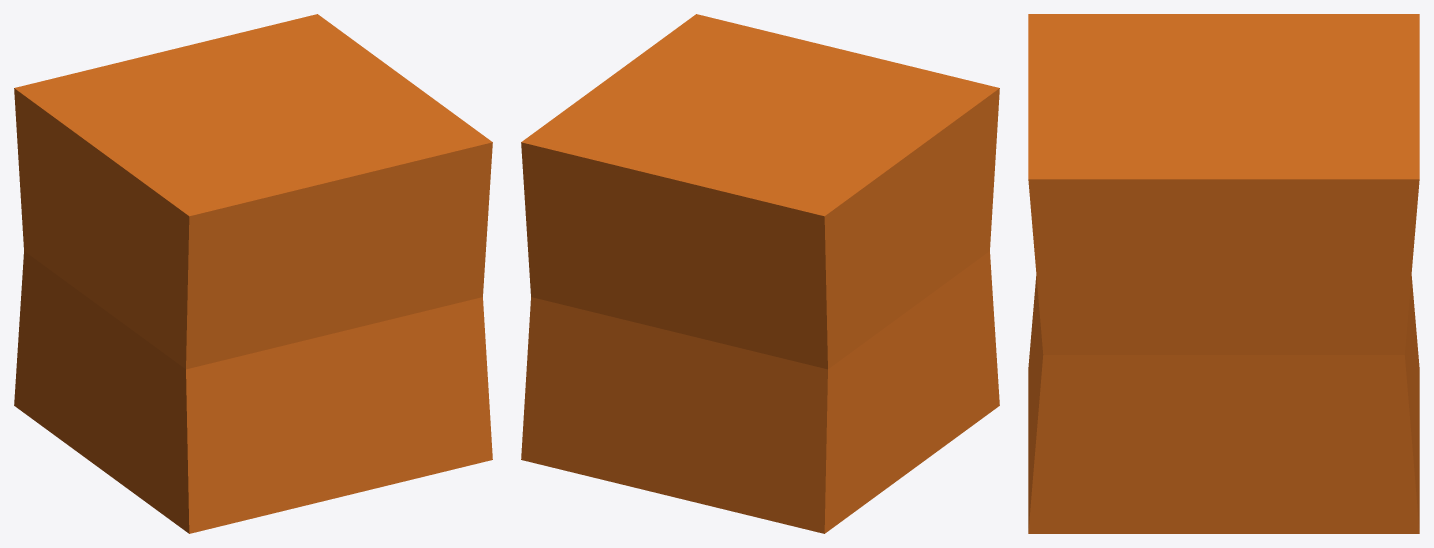
3 renders of one model, left to right at view 1: azimuth 30°, elevation 25°; view 2: azimuth 150°, elevation 25°; view 3: azimuth 270°, elevation 25°, orthographic. The views are drawn at different scales.
Parts seen in each view (by area): view 1: Box; view 2: Box; view 3: Box.
Boxes of the visible parts, bbox=[...] form: Box: bbox=[14, 14, 492, 533]; Box: bbox=[521, 14, 999, 533]; Box: bbox=[1028, 14, 1419, 533].
Bounding box in the file's own units: 1 × 1 × 1.
